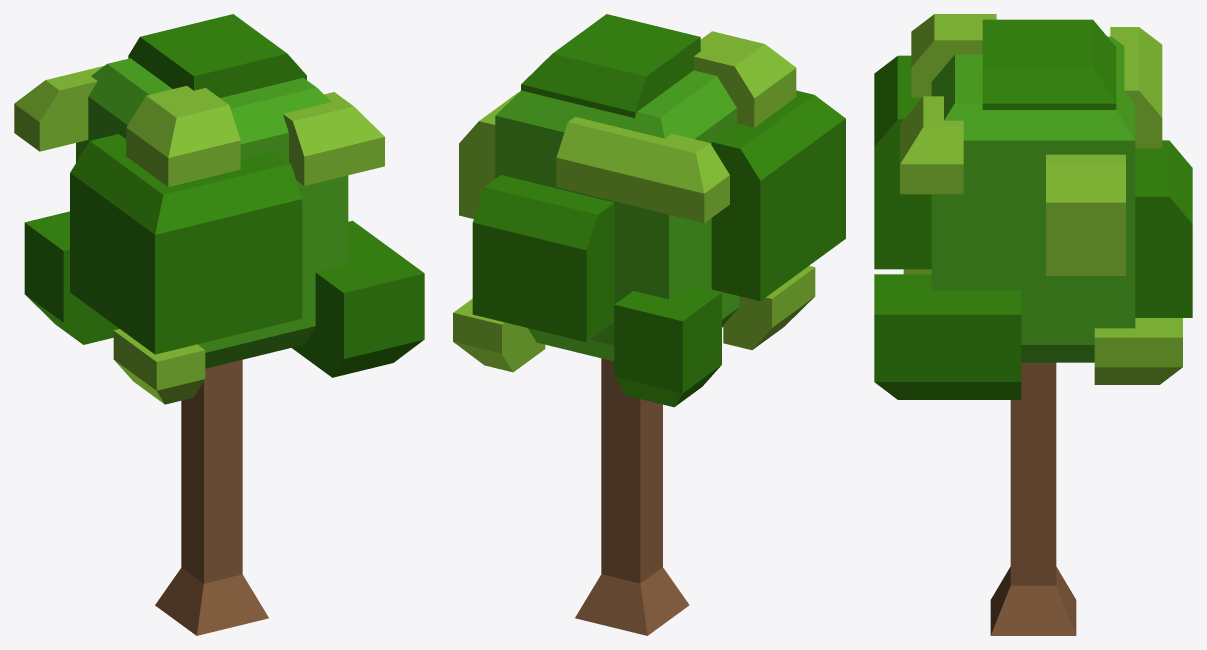
File: Tree1.fbx
3 renders of one model, left to right at view 1: azimuth 30°, elevation 25°; view 2: azimuth 150°, elevation 25°; view 3: azimuth 270°, elevation 25°, orthographic. The views are drawn at different scales.
Visible parts, largest first — view 1: Tree.004; view 2: Tree.004; view 3: Tree.004.
Boxes of the visible parts, x1,y1,x2,y2 form: Tree.004: (14, 14, 424, 635); Tree.004: (453, 14, 845, 635); Tree.004: (874, 14, 1192, 635).
Bounding box in the file's own units: 40 × 80 × 40.
1 material, 1 textured.
